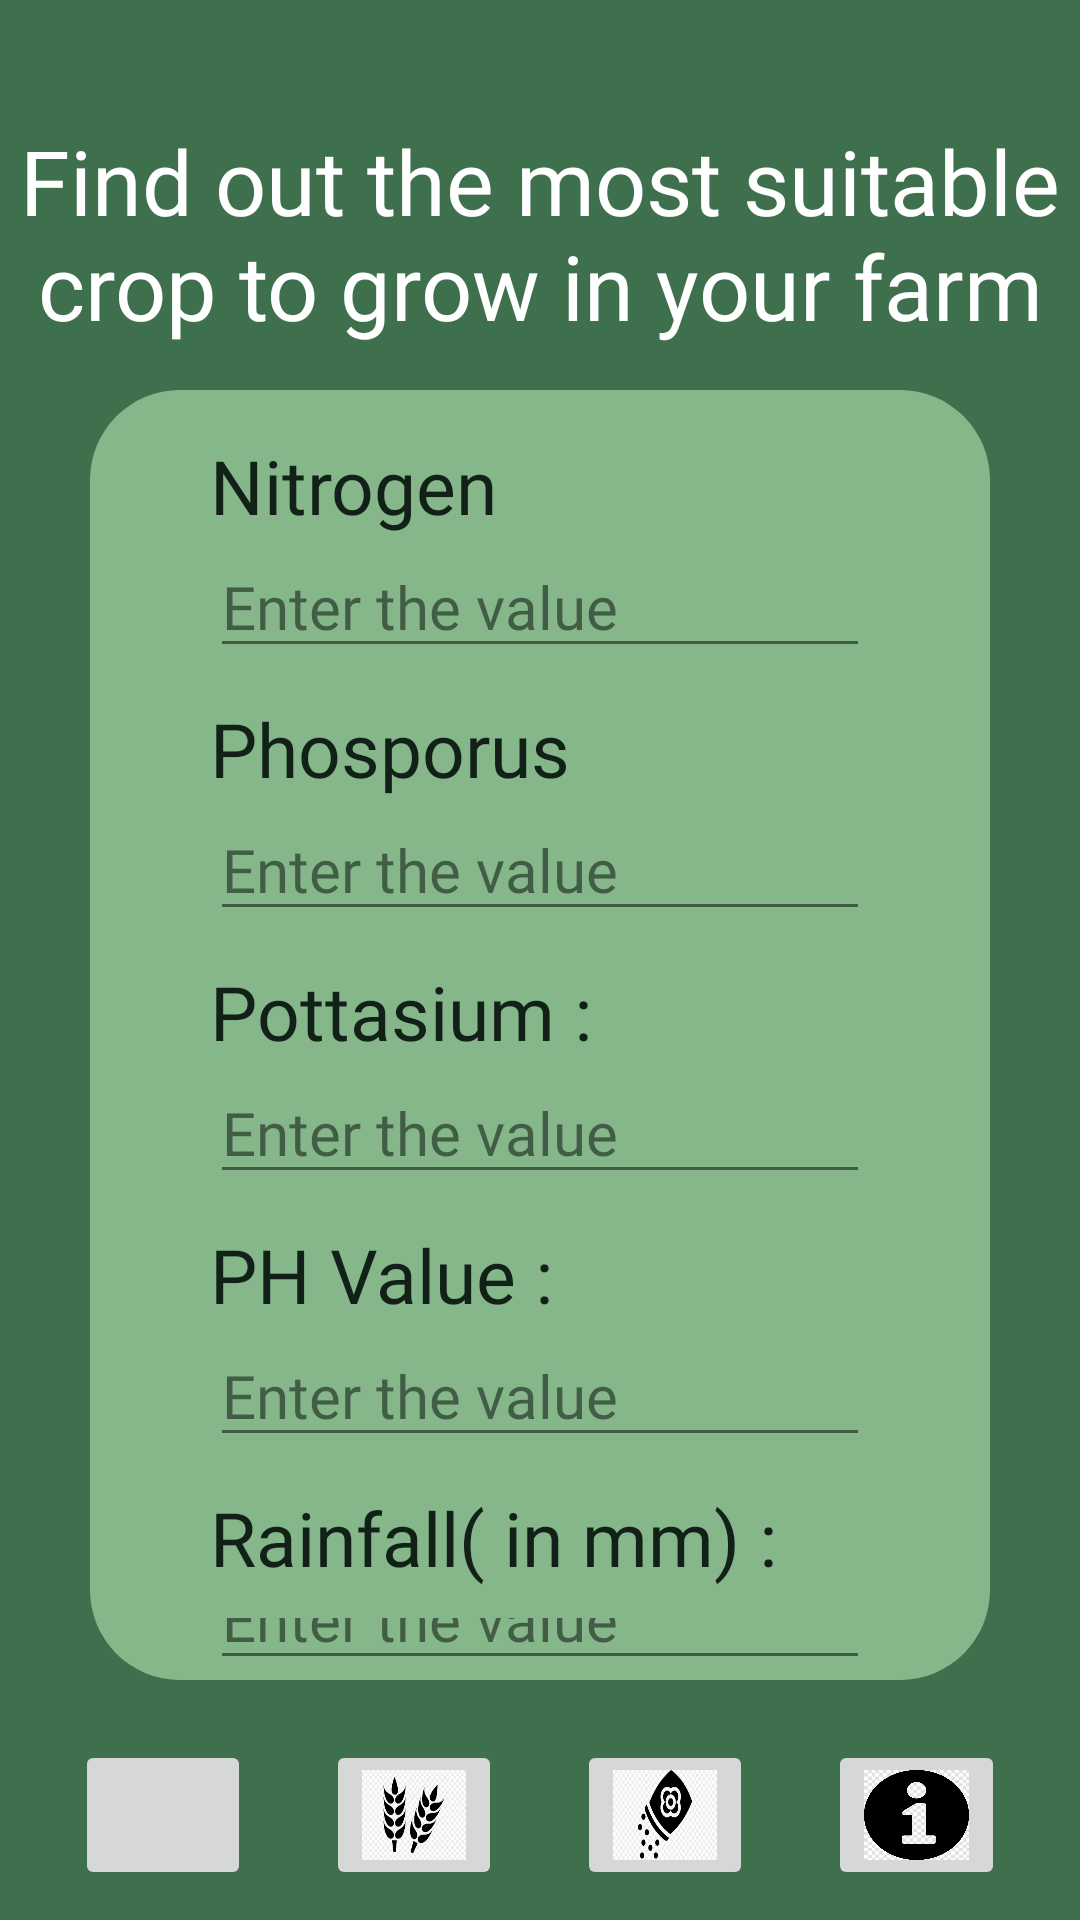

Icons on this 1080 × 1920 Android screen, each with the point to tap as (x,y):
aboutus: (916,1815)
crop: (414,1815)
fertilizer: (665,1815)
